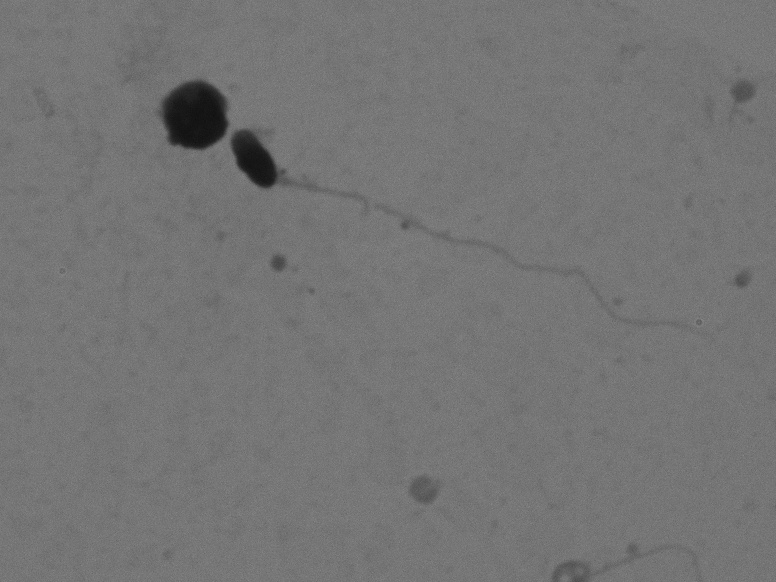Abnormal: (225, 99, 736, 397)
